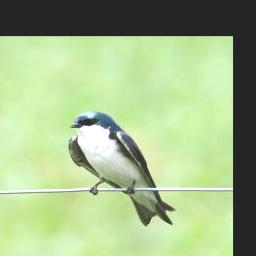Swallow: (68, 110, 178, 226)
